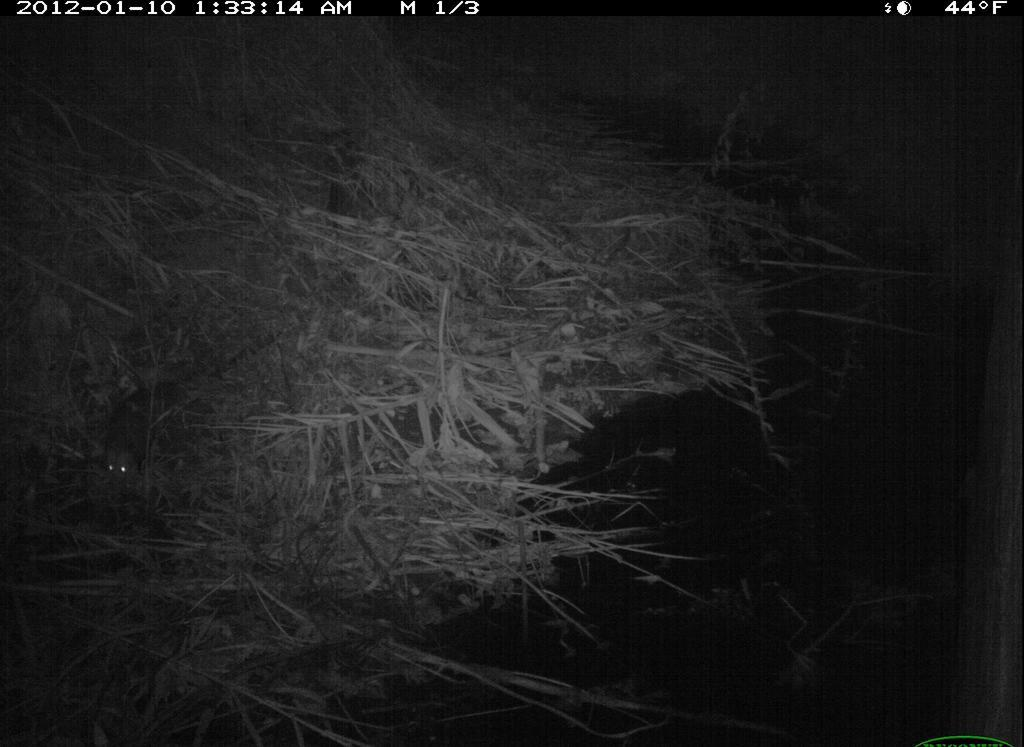opossum: (98, 385, 161, 491)
